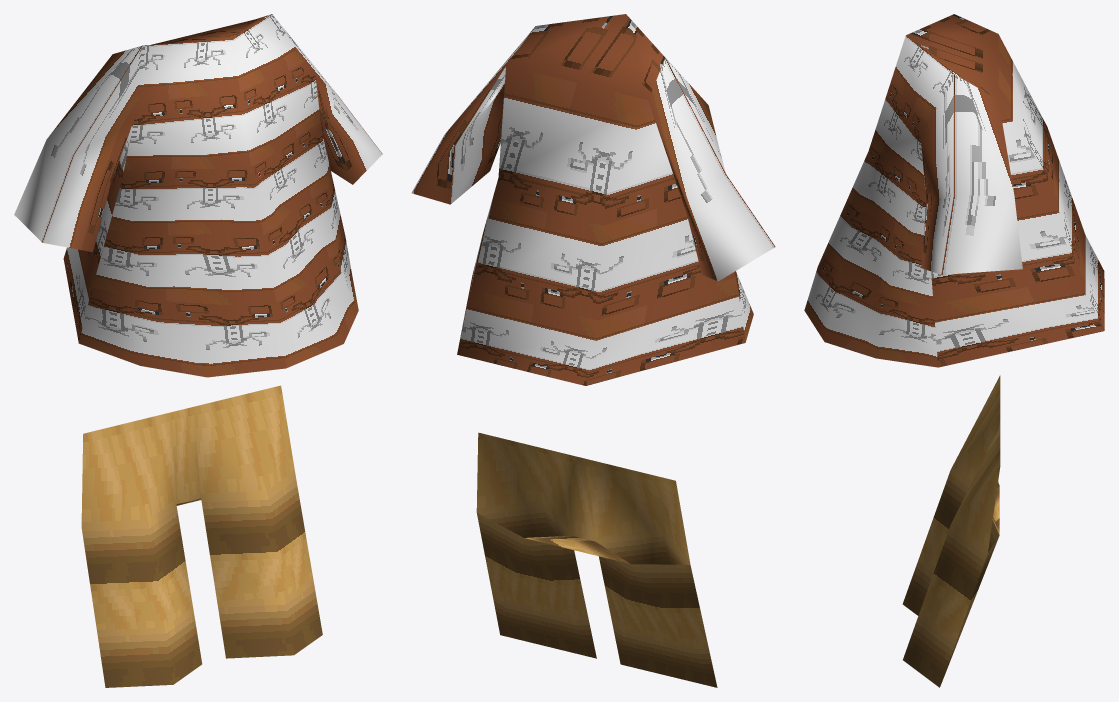
File: 1752cl_set_bot.gltf
3 renders of one model, left to right at view 1: azimuth 30°, elevation 25°; view 2: azimuth 150°, elevation 25°; view 3: azimuth 270°, elevation 25°, orthographic. The views are drawn at different scales.
Visible parts, largest first — view 1: 1752cl_set_bot; view 2: 1752cl_set_bot; view 3: 1752cl_set_bot.
Part boxes in pixels (bbox=[...]): 1752cl_set_bot: bbox=[14, 14, 382, 687]; 1752cl_set_bot: bbox=[411, 14, 775, 687]; 1752cl_set_bot: bbox=[804, 14, 1104, 687].
Bounding box in the file's own units: 1.09 × 1.96 × 0.8848.
2 materials, 2 textured.
